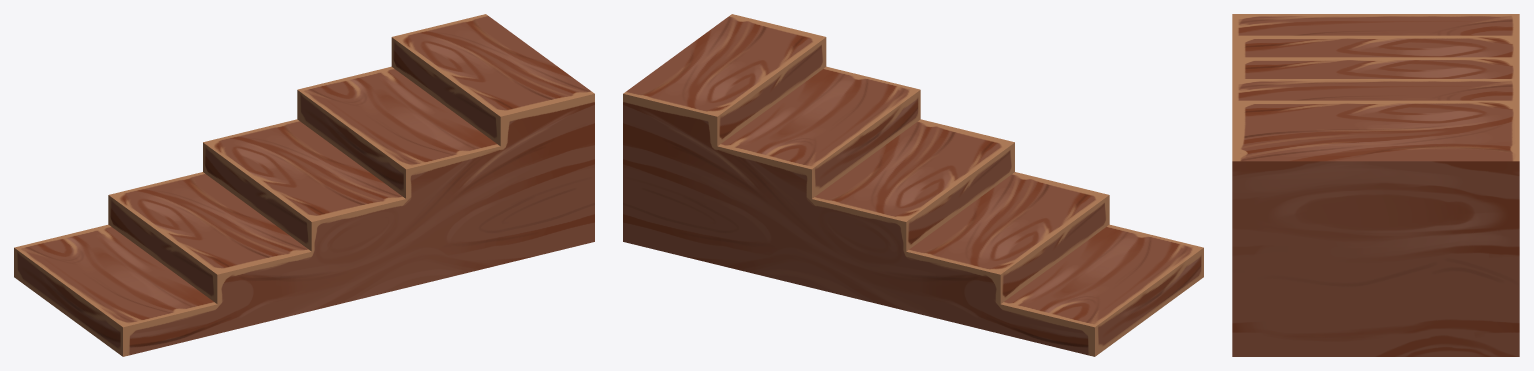
The model's file is stairs.fbx.
3 renders of one model, left to right at view 1: azimuth 30°, elevation 25°; view 2: azimuth 150°, elevation 25°; view 3: azimuth 270°, elevation 25°, orthographic. The views are drawn at different scales.
Parts seen in each view (by area): view 1: stairs; view 2: stairs; view 3: stairs.
Boxes of the visible parts, box(x1,y1,x2,y2) form: stairs: box(14, 14, 594, 356); stairs: box(623, 14, 1203, 356); stairs: box(1232, 14, 1519, 356).
Size of the model in its own units: 300 by 90 by 120.
